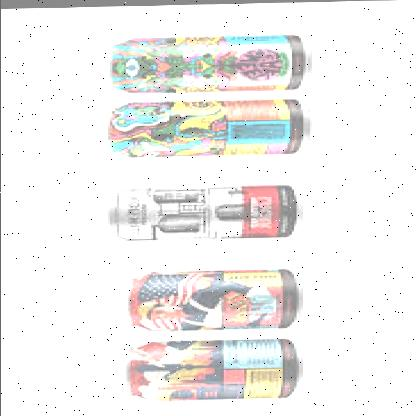Can: (101, 96, 314, 160), (102, 31, 314, 94), (119, 263, 306, 333), (102, 180, 308, 242), (121, 336, 306, 404)
